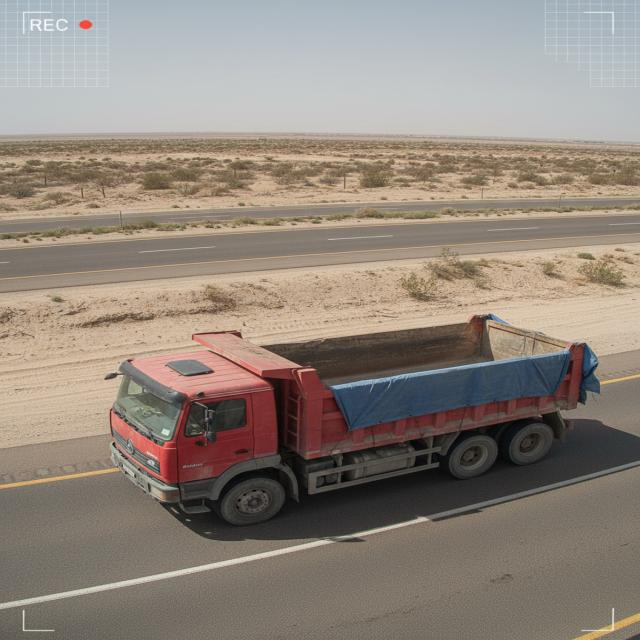Box: (186, 308, 596, 380)
Truck: (102, 295, 608, 526)
